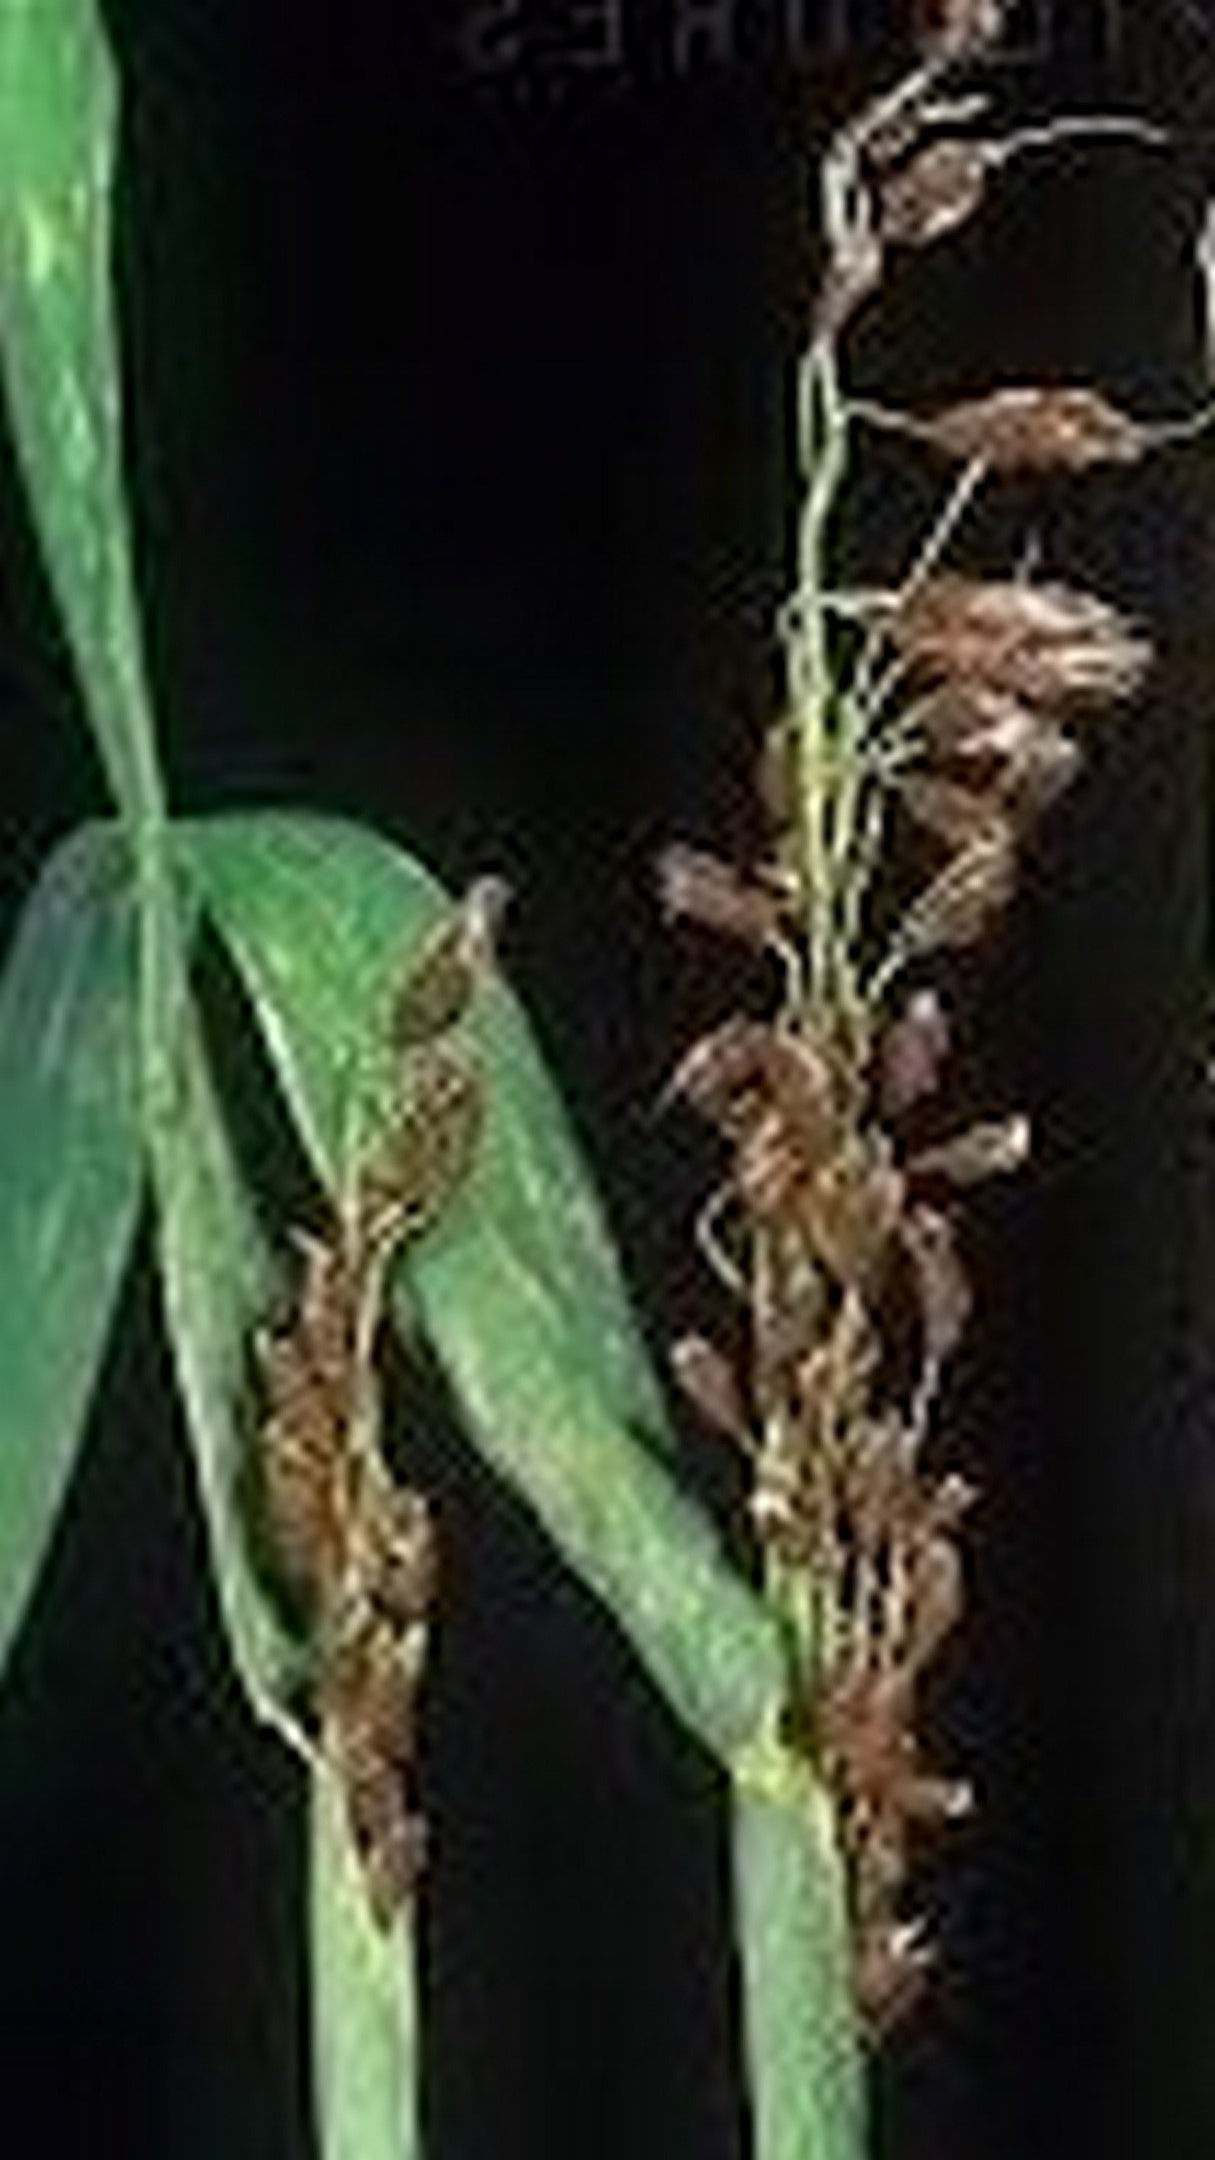Wheat Loose Smut: (633, 134, 1179, 1768)
